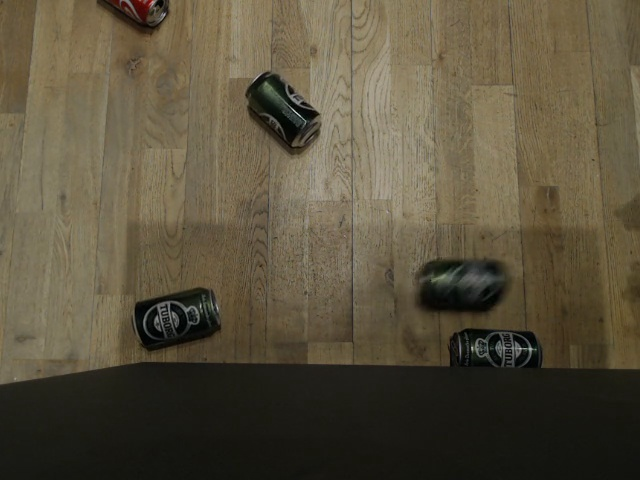coke: (203, 130, 261, 222)
